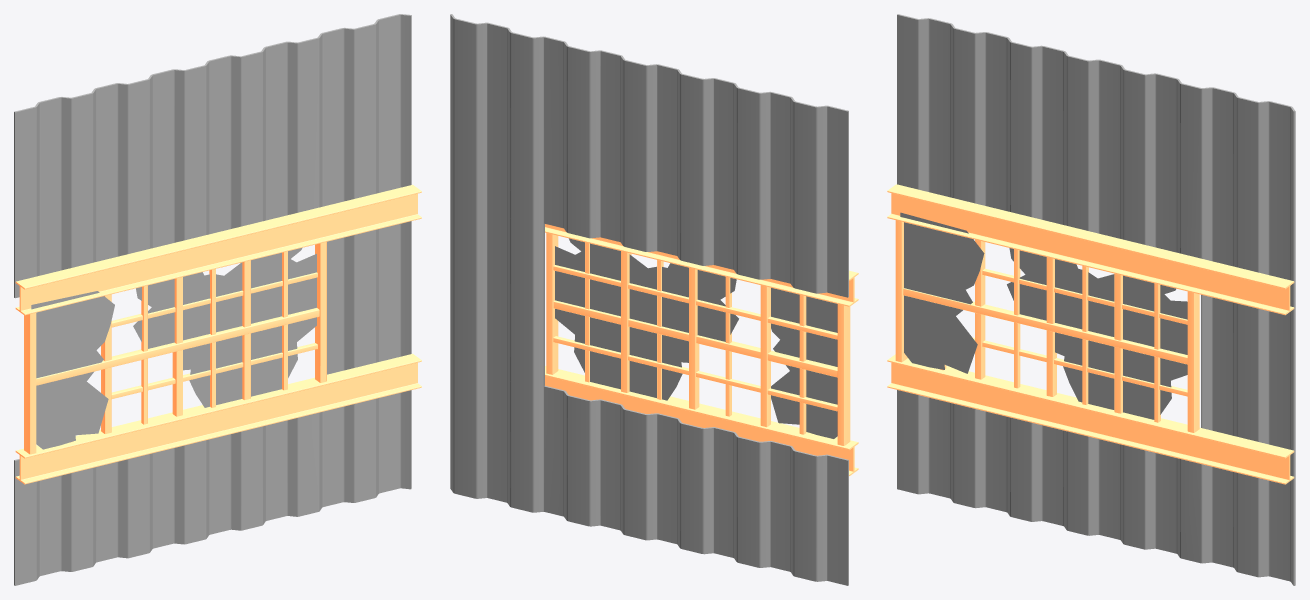
Rendered from SM_MetalPlate2.fbx.
3 renders of one model, left to right at view 1: azimuth 30°, elevation 25°; view 2: azimuth 150°, elevation 25°; view 3: azimuth 330°, elevation 25°, orthographic.
Visible parts, largest first — view 1: SM_MetalPlate2_LOD0; view 2: SM_MetalPlate2_LOD0; view 3: SM_MetalPlate2_LOD0.
Part boxes in pixels (x1,y1,x2,y2): SM_MetalPlate2_LOD0: (14,14,421,585); SM_MetalPlate2_LOD0: (450,14,858,585); SM_MetalPlate2_LOD0: (887,14,1295,585).
Bounding box in the file's own units: 351 × 21.99 × 400.
